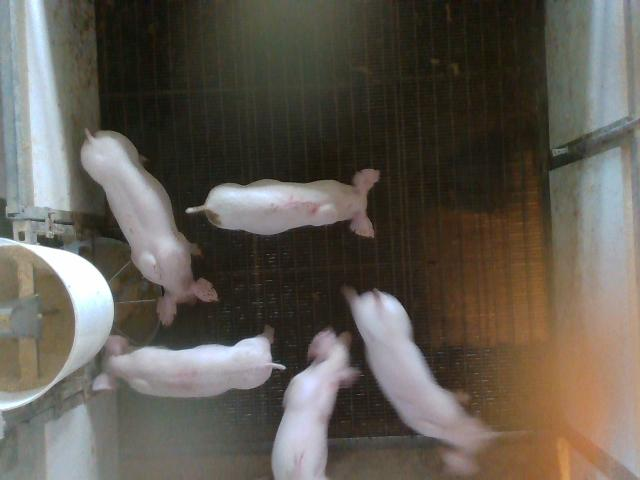pig-4: (93, 329, 285, 397)
pig-5: (186, 169, 380, 237)
